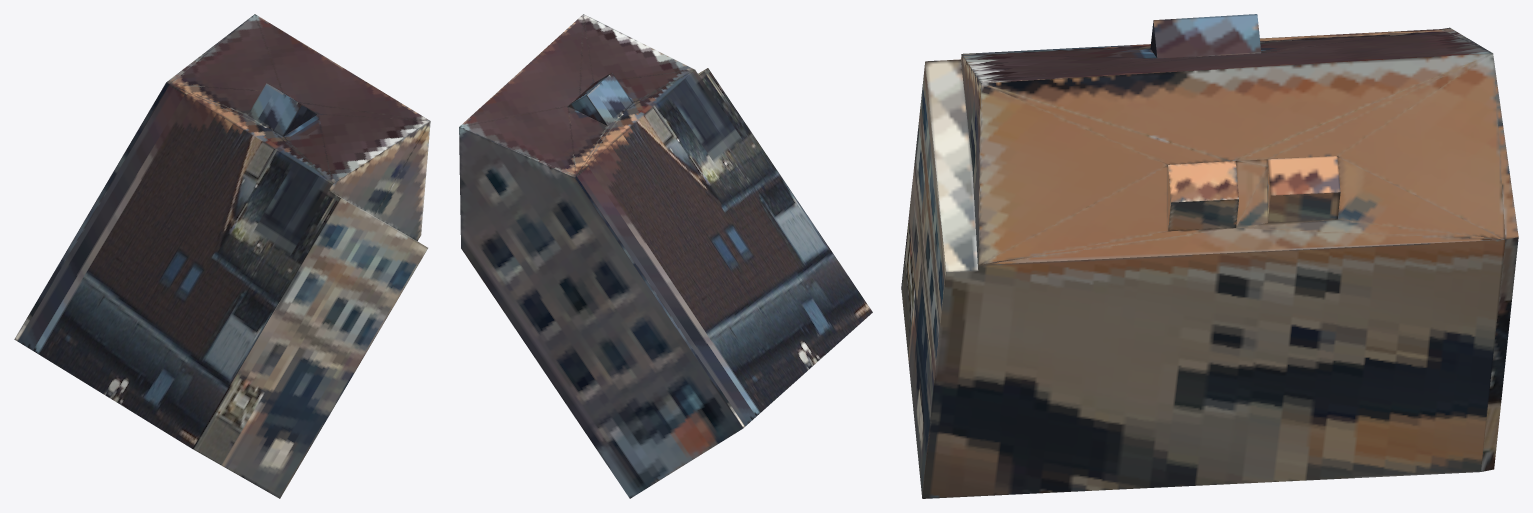
The picture shows the model from 3 angles, left to right: view 1: azimuth 30°, elevation 25°; view 2: azimuth 150°, elevation 25°; view 3: azimuth 270°, elevation 25°; orthographic projection. The views are drawn at different scales.
Parts seen in each view (by area): view 1: BAG_0599100000603392 (×5); view 2: BAG_0599100000603392 (×4); view 3: BAG_0599100000603392 (×5).
Part boxes in pixels (x1,y1,x2,y2): BAG_0599100000603392 (×5): [14, 14, 430, 498]; BAG_0599100000603392 (×4): [459, 14, 872, 498]; BAG_0599100000603392 (×5): [901, 14, 1518, 498].
Size of the model in its own units: 14.93 by 16.25 by 16.12.
6 materials, 6 textured.
